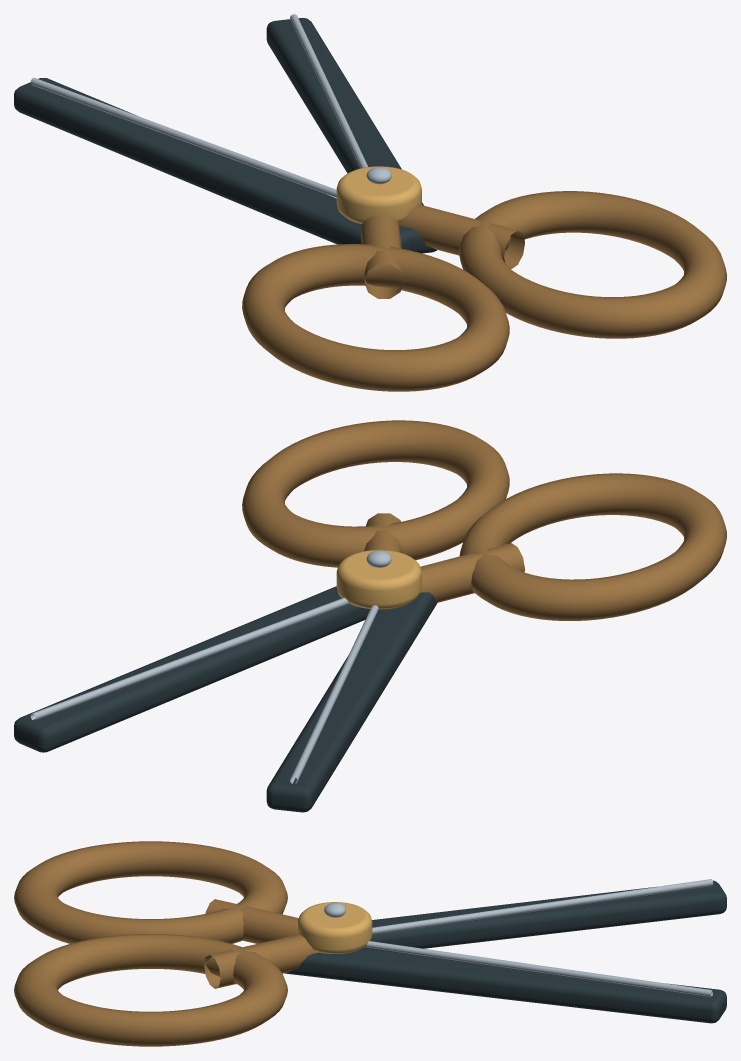
The model's file is dispatch-shears-v1.glb.
3 views of the same model, one above another, from view 1: azimuth 30°, elevation 25°; view 2: azimuth 150°, elevation 25°; view 3: azimuth 270°, elevation 25° (orthographic). The views are drawn at different scales.
Visible parts, largest first — view 1: ShearFingerLoop, ShearFingerLoop.001, ShearBlade, ShearBlade.001, ShearHinge, ShearTang.001, ShearEdge, ShearTang, ShearEdge.001; view 2: ShearFingerLoop, ShearFingerLoop.001, ShearBlade.001, ShearBlade, ShearHinge, ShearEdge.001, ShearTang, ShearEdge, ShearTang.001; view 3: ShearFingerLoop.001, ShearFingerLoop, ShearBlade.001, ShearBlade, ShearHinge, ShearEdge.001, ShearEdge, ShearTang.001, ShearTang.
Boxes of the visible parts, bbox=[...] form: ShearFingerLoop: bbox=[242, 244, 509, 391]; ShearFingerLoop.001: bbox=[459, 191, 726, 338]; ShearBlade: bbox=[14, 78, 409, 249]; ShearBlade.001: bbox=[266, 18, 436, 253]; ShearHinge: bbox=[336, 166, 421, 223]; ShearTang.001: bbox=[398, 204, 524, 269]; ShearEdge: bbox=[30, 77, 336, 197]; ShearTang: bbox=[360, 214, 404, 298]; ShearEdge.001: bbox=[290, 14, 368, 168]; ShearFingerLoop: bbox=[459, 473, 726, 620]; ShearFingerLoop.001: bbox=[242, 420, 509, 567]; ShearBlade.001: bbox=[14, 586, 370, 752]; ShearBlade: bbox=[266, 592, 437, 812]; ShearHinge: bbox=[336, 550, 421, 609]; ShearEdge.001: bbox=[30, 597, 349, 720]; ShearTang: bbox=[420, 543, 524, 602]; ShearEdge: bbox=[290, 605, 378, 783]; ShearTang.001: bbox=[364, 513, 402, 553]; ShearFingerLoop.001: bbox=[14, 934, 287, 1046]; ShearFingerLoop: bbox=[14, 841, 287, 943]; ShearBlade.001: bbox=[284, 948, 726, 1023]; ShearBlade: bbox=[363, 880, 726, 951]; ShearHinge: bbox=[298, 902, 372, 953]; ShearEdge.001: bbox=[364, 941, 713, 996]; ShearEdge: bbox=[372, 879, 713, 934]; ShearTang.001: bbox=[204, 934, 318, 988]; ShearTang: bbox=[205, 899, 298, 943].
Size of the model in its own units: 1 by 0.1475 by 1.63.
